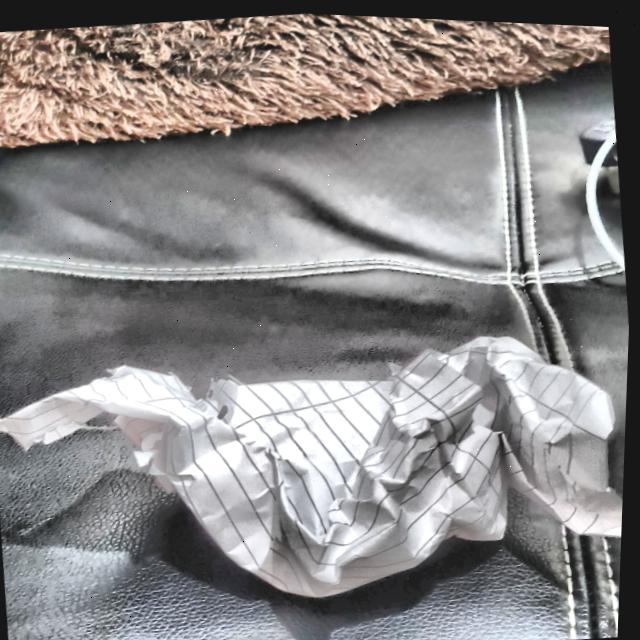paper: (5, 297, 631, 634)
